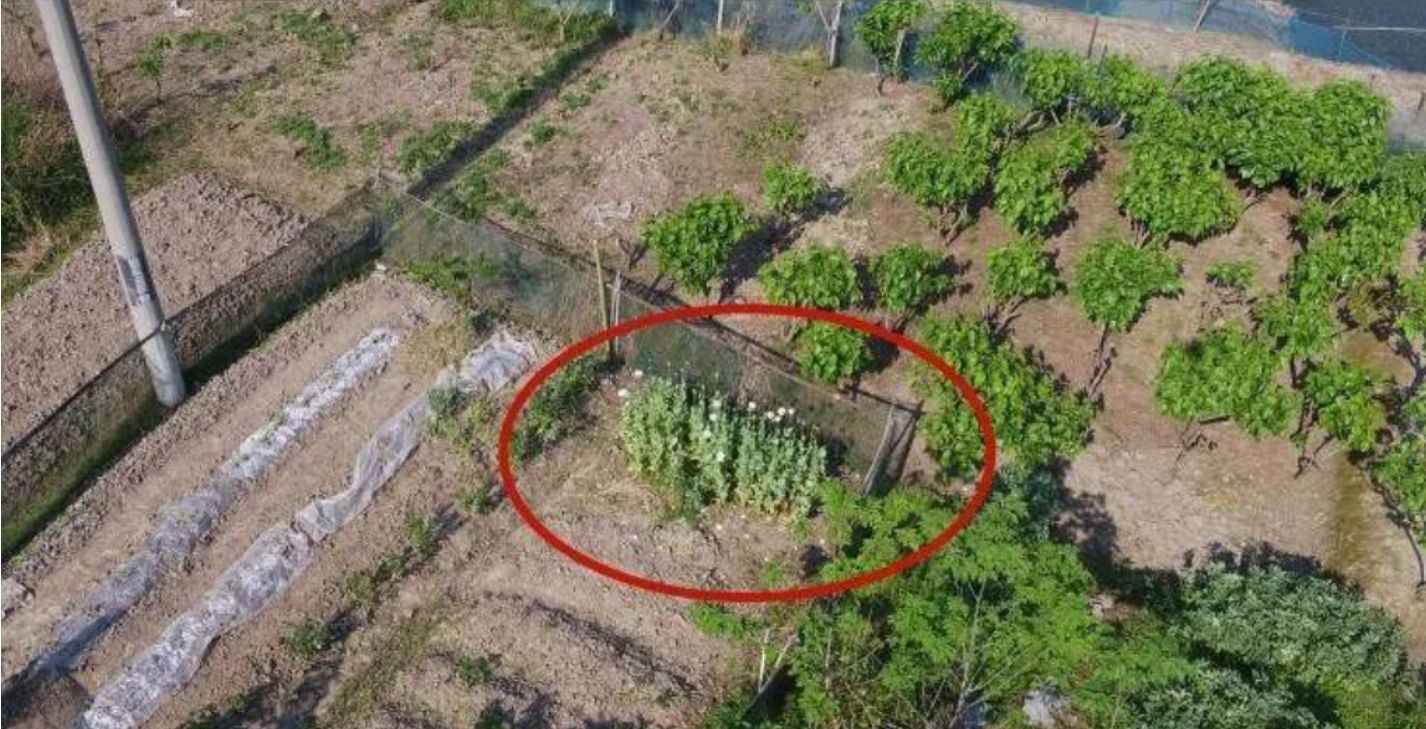Poppy: (599, 356, 839, 524)
